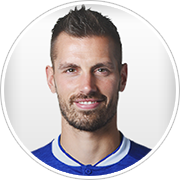face: (43, 42, 131, 125)
